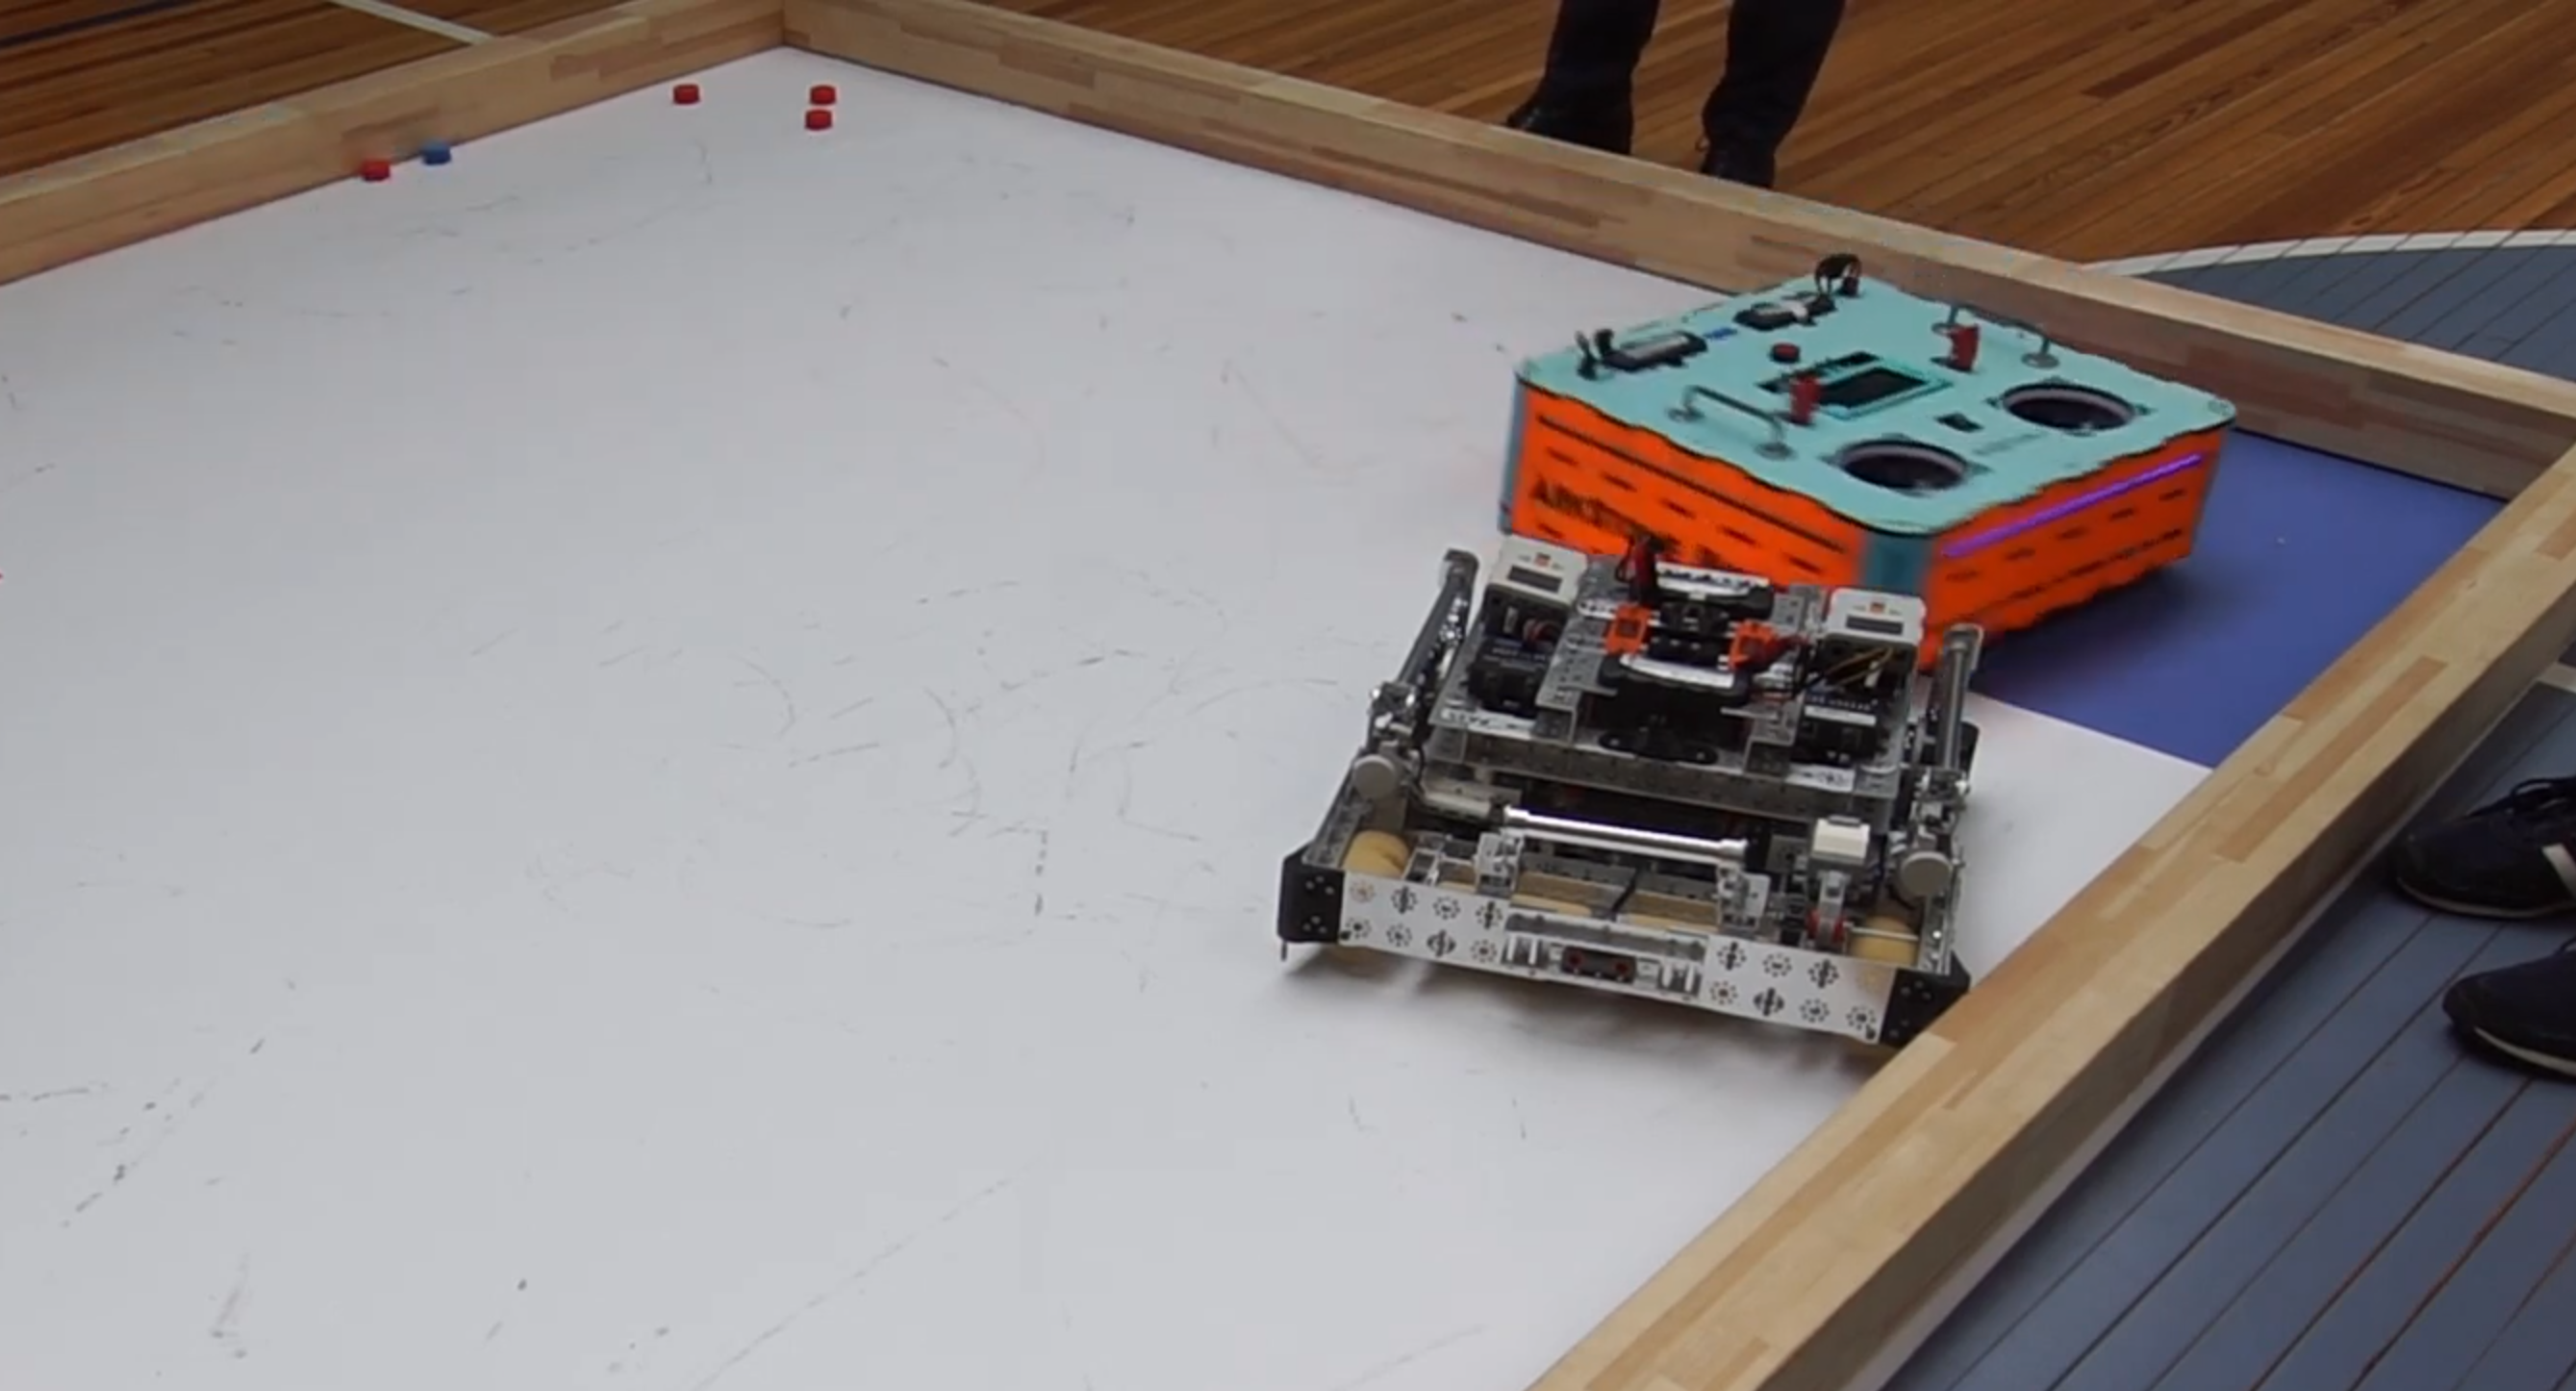blue_puck: (420, 144, 449, 164)
red_puck: (807, 81, 841, 108), (802, 108, 832, 135), (358, 158, 387, 183), (675, 82, 699, 103)
